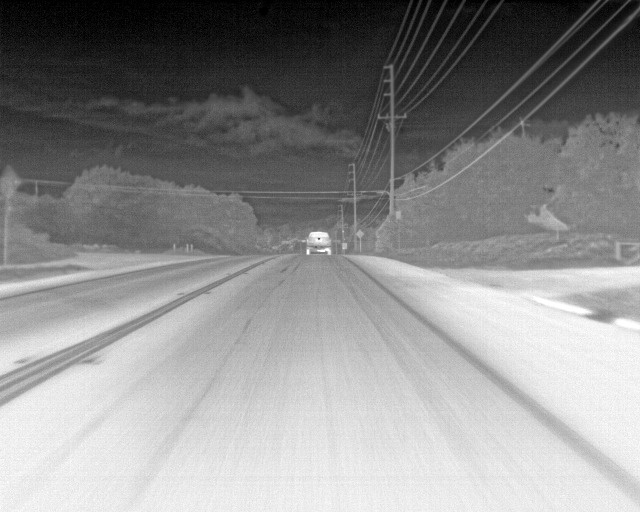vehicle: (306, 230, 333, 256)
